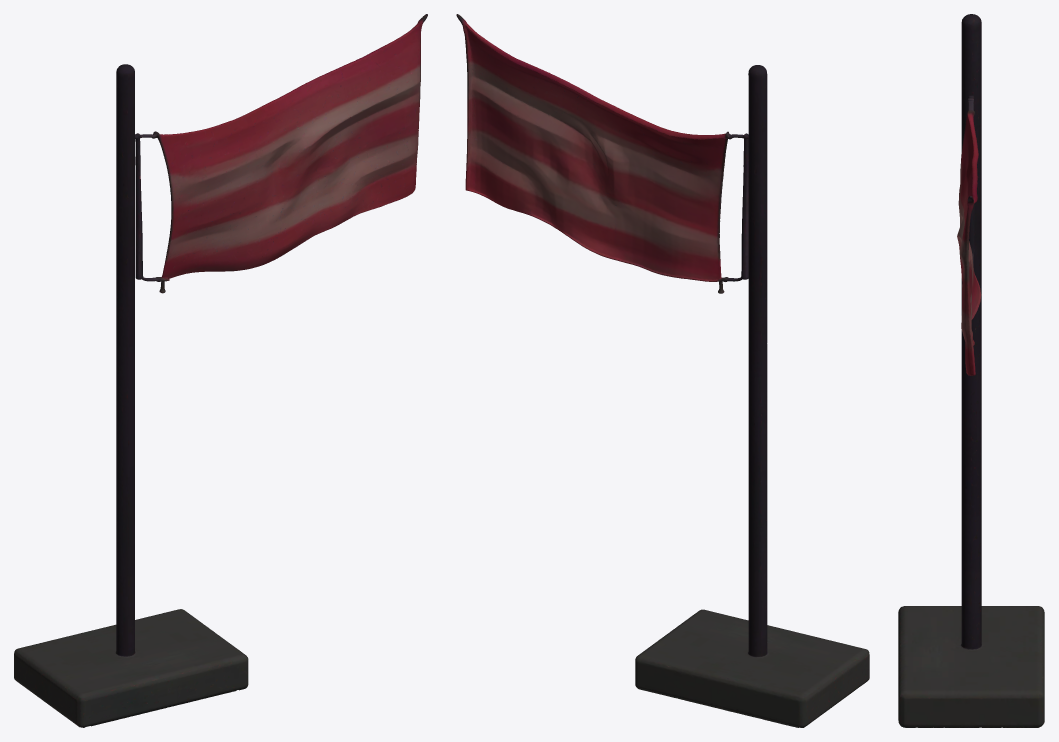
The model's file is flag_pole.glb.
3 renders of one model, left to right at view 1: azimuth 30°, elevation 25°; view 2: azimuth 150°, elevation 25°; view 3: azimuth 270°, elevation 25°, orthographic. The views are drawn at different scales.
Parts seen in each view (by area): view 1: geometry_0; view 2: geometry_0; view 3: geometry_0.
Boxes of the visible parts, x1=… form: geometry_0: x1=14, y1=14, x2=427, y2=727; geometry_0: x1=456, y1=14, x2=869, y2=727; geometry_0: x1=898, y1=14, x2=1044, y2=727.
Bounding box in the file's own units: 0.6455 × 1 × 0.1993.
1 material, 1 textured.
